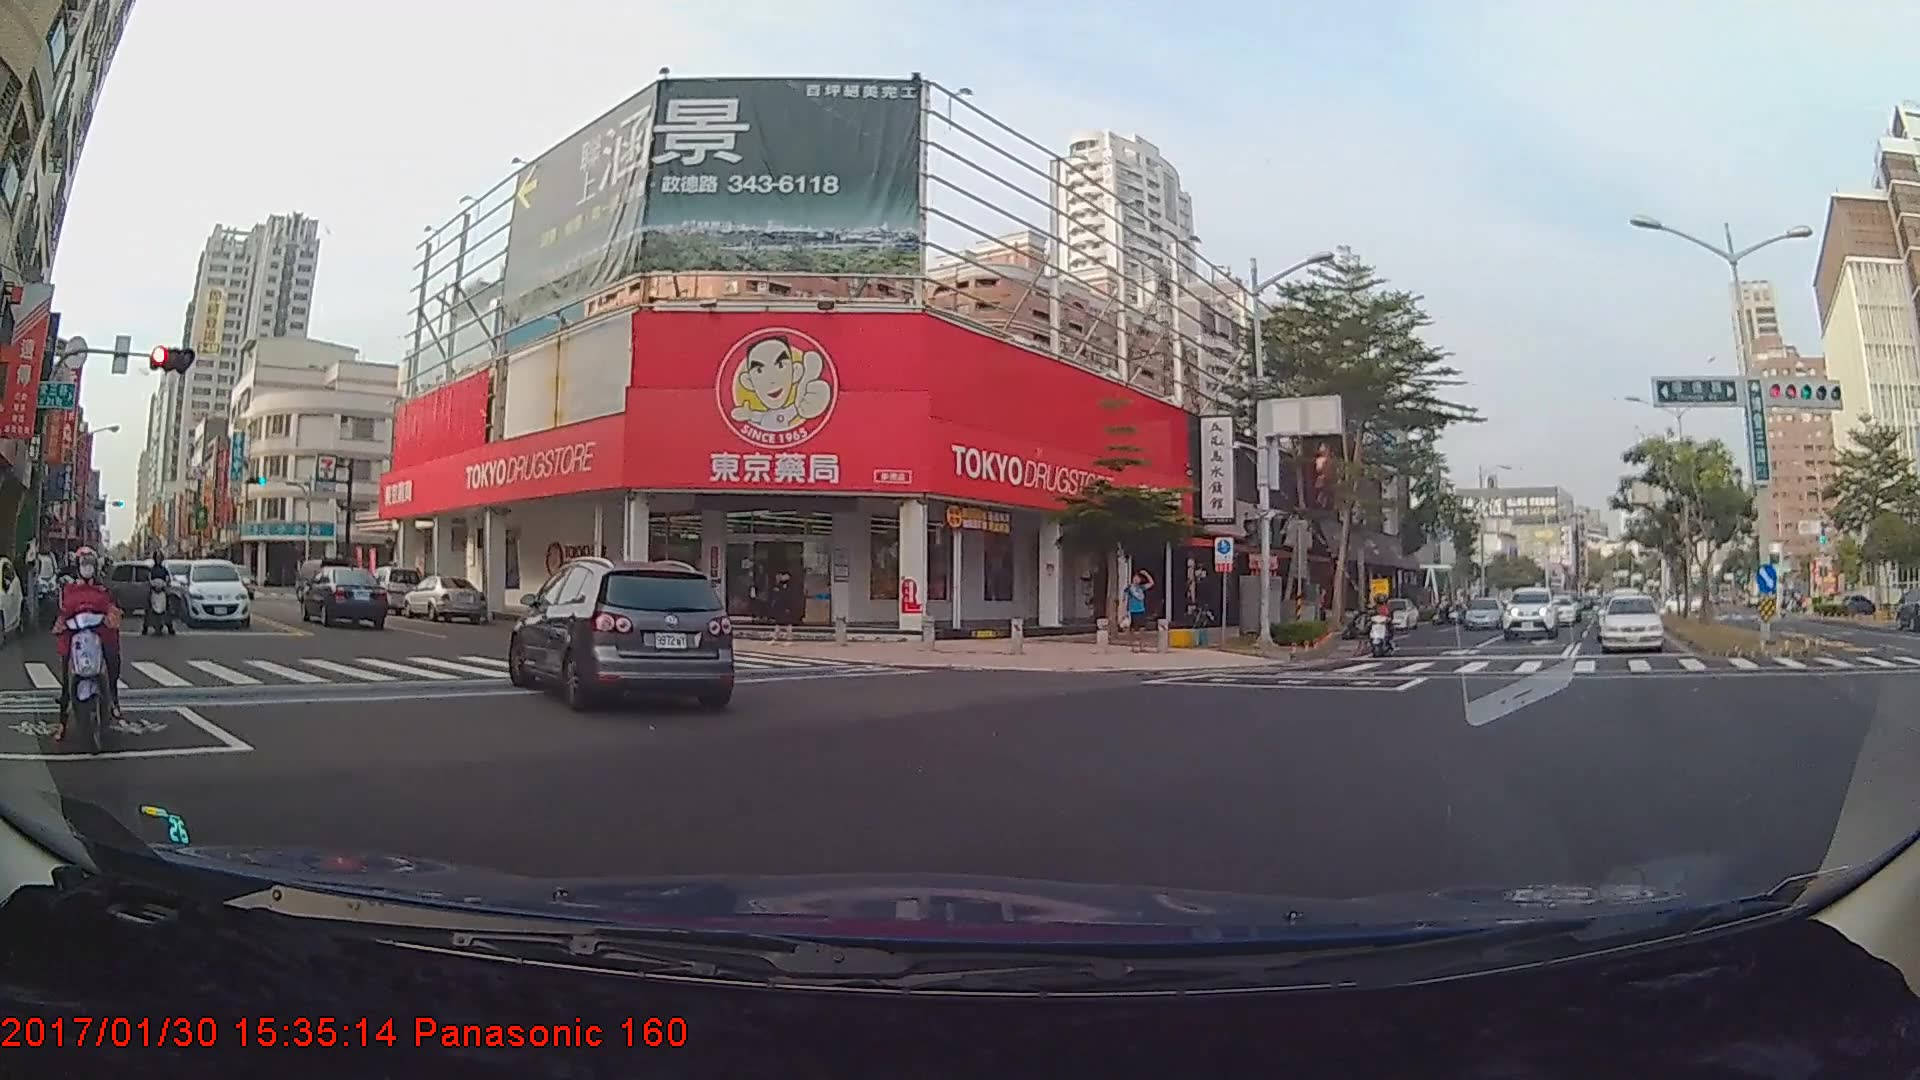pedestrian: (768, 565, 807, 654), (1120, 567, 1156, 651)
rider: (47, 543, 132, 765), (141, 551, 181, 641), (52, 544, 88, 626), (1364, 588, 1402, 654)
vehicle: (513, 557, 733, 713), (300, 564, 387, 629), (177, 556, 249, 626), (98, 558, 189, 613), (399, 570, 486, 619), (1597, 592, 1664, 651), (1500, 585, 1558, 637), (1366, 599, 1418, 630), (1461, 596, 1505, 629), (1539, 594, 1575, 625)
